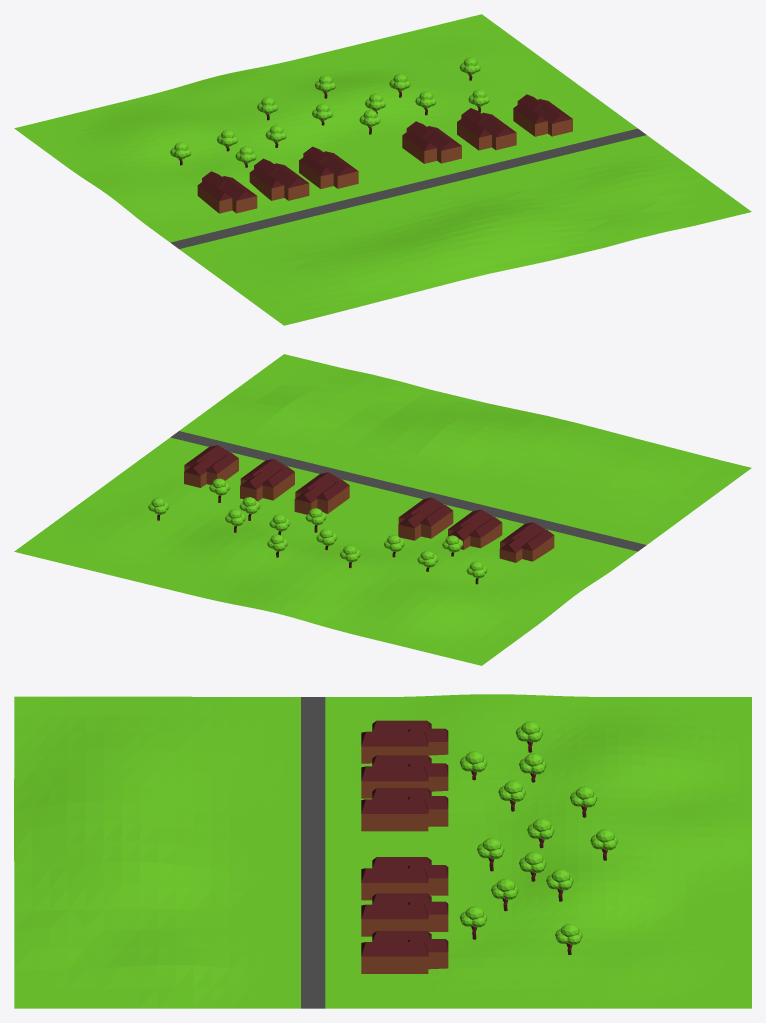
The model's file is environment.fbx.
3 views of the same model, one above another, from view 1: azimuth 30°, elevation 25°; view 2: azimuth 150°, elevation 25°; view 3: azimuth 270°, elevation 25° (orthographic). The views are drawn at different scales.
Parts seen in each view (by area): view 1: Plane, Plane.001, Cube.004, Cube.014, Cube.008, Cube.010, Cube.012, Cube.006, Cube.007, Cube.003, Cube.009, Cube.005 (+2 smaller); view 2: Plane, Plane.001, Cube.010, Cube.008, Cube.004, Cube.014, Cube.006, Cube.012, Cube.005, Cube.007, Cube.003, Cube.009 (+1 smaller); view 3: Plane, Plane.001, Cube.012, Cube.008, Cube.014, Cube.010, Cube.004, Cube.006, Cube.005, Cube.009, Cube.007, Cube.003 (+2 smaller).
Boxes of the visible parts, box(x1,y1,x2,y2) form: Plane: box(14, 14, 751, 325); Plane.001: box(170, 128, 646, 248); Cube.004: box(402, 121, 461, 151); Cube.014: box(198, 171, 256, 200); Cube.008: box(457, 108, 516, 137); Cube.010: box(513, 94, 572, 123); Cube.012: box(250, 158, 308, 188); Cube.006: box(299, 146, 357, 176); Cube.007: box(457, 115, 516, 150); Cube.003: box(402, 128, 461, 163); Cube.009: box(513, 101, 572, 136); Cube.005: box(299, 154, 358, 188); Plane: box(14, 354, 751, 665); Plane.001: box(170, 431, 646, 551); Cube.010: box(184, 445, 238, 475); Cube.008: box(240, 459, 294, 489); Cube.004: box(295, 472, 349, 502); Cube.014: box(500, 522, 553, 552); Cube.006: box(398, 497, 452, 528); Cube.012: box(448, 509, 501, 540); Cube.005: box(398, 505, 453, 540); Cube.007: box(240, 466, 294, 501); Cube.003: box(294, 479, 349, 514); Cube.009: box(184, 452, 238, 487); Plane: box(14, 694, 751, 1008); Plane.001: box(301, 697, 325, 1008); Cube.012: box(361, 755, 448, 781); Cube.008: box(361, 893, 448, 919); Cube.014: box(361, 720, 448, 746); Cube.010: box(361, 931, 448, 956); Cube.004: box(361, 857, 448, 882); Cube.006: box(361, 788, 448, 813); Cube.005: box(361, 809, 448, 831); Cube.009: box(361, 952, 448, 973); Cube.007: box(361, 914, 448, 936); Cube.003: box(361, 878, 448, 900).
Size of the model in its own units: 9076 by 539 by 9080.
